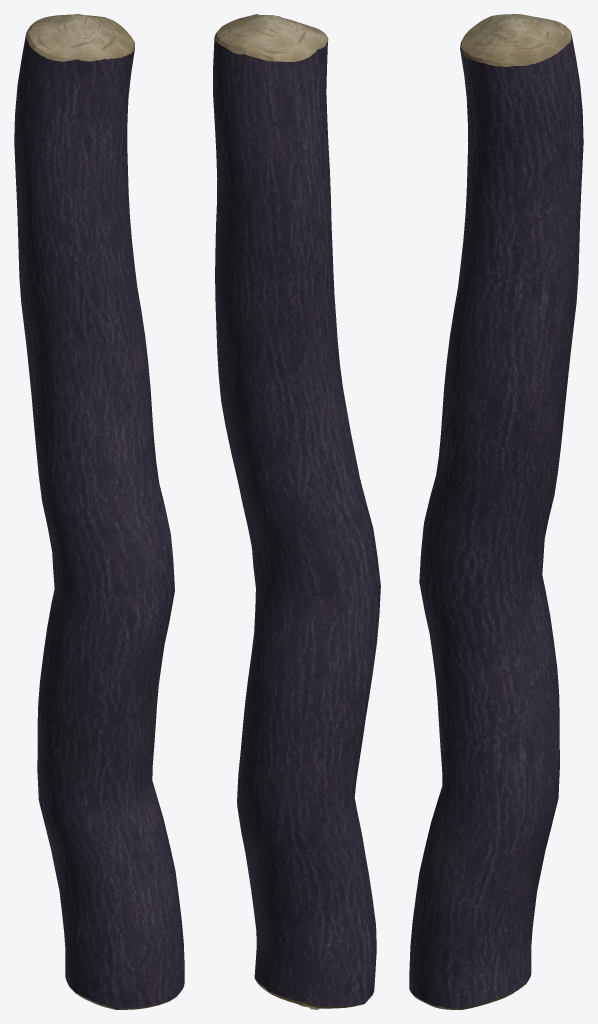
3 renders of one model, left to right at view 1: azimuth 90°, elevation 25°; view 2: azimuth 150°, elevation 25°; view 3: azimuth 270°, elevation 25°, orthographic. The views are drawn at different scales.
Visible parts, largest first — view 1: SM_GF_Oak_Tree_02_tree_quarters_top_LOD0; view 2: SM_GF_Oak_Tree_02_tree_quarters_top_LOD0; view 3: SM_GF_Oak_Tree_02_tree_quarters_top_LOD0.
Part boxes in pixels (x1,y1,x2,y2): SM_GF_Oak_Tree_02_tree_quarters_top_LOD0: (14, 14, 184, 1009); SM_GF_Oak_Tree_02_tree_quarters_top_LOD0: (213, 14, 380, 1009); SM_GF_Oak_Tree_02_tree_quarters_top_LOD0: (409, 14, 583, 1009).
Bounding box in the file's own units: 1.15 × 8.18 × 1.3.
1 material, 1 textured.
